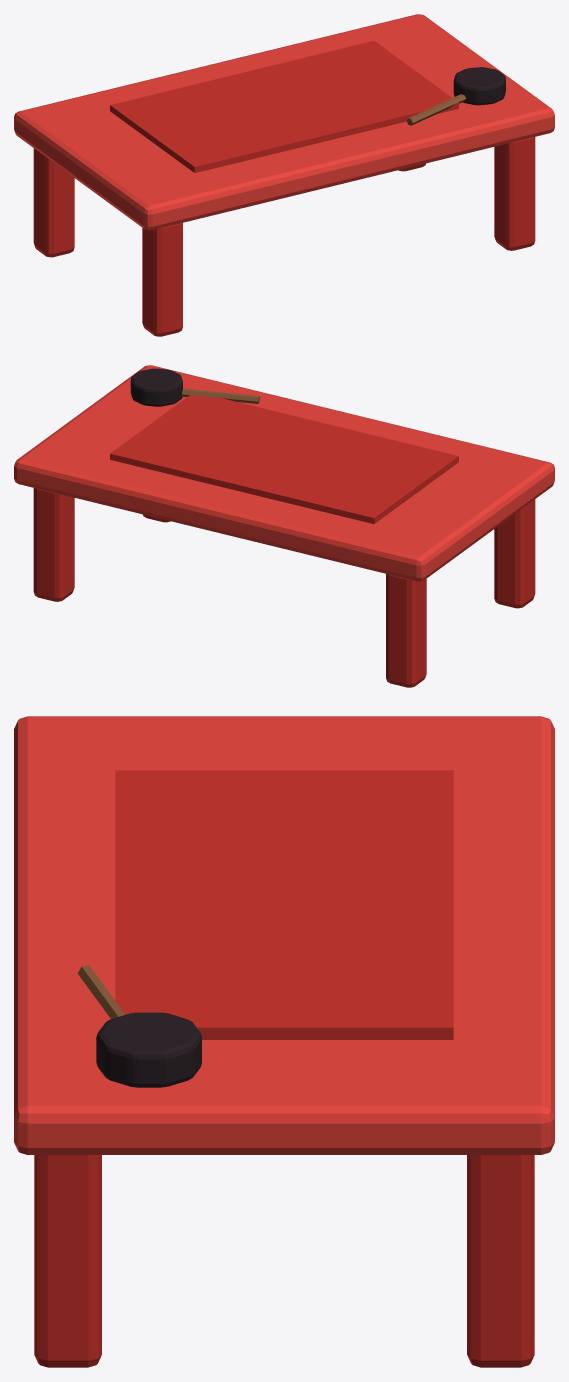
The model's file is ban-thu-phap.glb.
3 views of the same model, one above another, from view 1: azimuth 30°, elevation 25°; view 2: azimuth 150°, elevation 25°; view 3: azimuth 270°, elevation 25° (orthographic). The views are drawn at different scales.
Visible parts, largest first — view 1: ban-thu-phap-0, ban-thu-phap-5, ban-thu-phap-4, ban-thu-phap-3, ban-thu-phap-1, ban-thu-phap-6, ban-thu-phap-7; view 2: ban-thu-phap-0, ban-thu-phap-5, ban-thu-phap-2, ban-thu-phap-1, ban-thu-phap-3, ban-thu-phap-6, ban-thu-phap-7; view 3: ban-thu-phap-0, ban-thu-phap-5, ban-thu-phap-2, ban-thu-phap-4, ban-thu-phap-6, ban-thu-phap-7.
Part boxes in pixels (x1,y1,x2,y2): ban-thu-phap-0: (14,14,554,230); ban-thu-phap-5: (110,41,458,172); ban-thu-phap-4: (494,137,535,250); ban-thu-phap-3: (142,223,182,336); ban-thu-phap-1: (33,148,74,257); ban-thu-phap-6: (453,67,505,105); ban-thu-phap-7: (407,94,466,125); ban-thu-phap-0: (14,365,554,581); ban-thu-phap-5: (110,395,458,523); ban-thu-phap-2: (33,488,74,601); ban-thu-phap-1: (386,574,426,687); ban-thu-phap-3: (494,499,535,608); ban-thu-phap-6: (130,368,182,406); ban-thu-phap-7: (181,388,259,403); ban-thu-phap-0: (14,716,554,1154); ban-thu-phap-5: (115,770,453,1039); ban-thu-phap-2: (467,1155,534,1367); ban-thu-phap-4: (34,1155,101,1367); ban-thu-phap-6: (96,1012,201,1087); ban-thu-phap-7: (77,965,125,1019).
Size of the model in its own units: 1.4 by 0.51 by 0.8.
